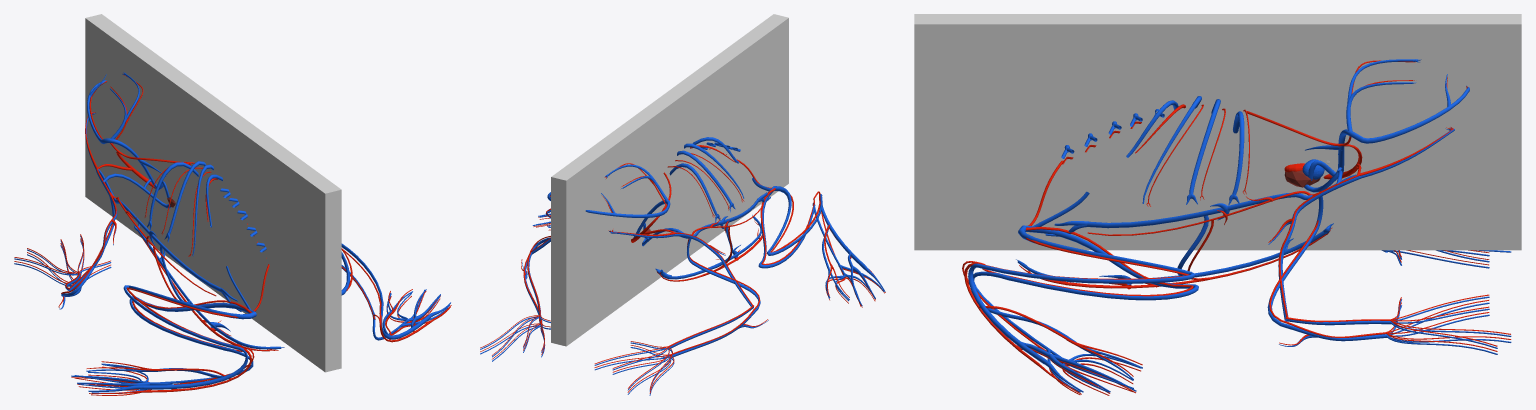
Rendered from krovsys.fbx.
3 renders of one model, left to right at view 1: azimuth 30°, elevation 25°; view 2: azimuth 150°, elevation 25°; view 3: azimuth 270°, elevation 25°, orthographic. The views are drawn at different scales.
Parts seen in each view (by area): view 1: Cube, КриваяБезье.044, КриваяБезье.085; view 2: Cube, КриваяБезье.044, КриваяБезье.085; view 3: Cube, КриваяБезье.044, КриваяБезье.085.
Part boxes in pixels (x1,y1,x2,y2): Cube: [85, 14, 341, 372]; КриваяБезье.044: [14, 72, 450, 393]; КриваяБезье.085: [14, 76, 451, 395]; Cube: [551, 14, 788, 346]; КриваяБезье.044: [480, 137, 885, 395]; КриваяБезье.085: [480, 145, 885, 393]; Cube: [914, 14, 1521, 250]; КриваяБезье.044: [968, 59, 1511, 392]; КриваяБезье.085: [962, 60, 1511, 395].
Size of the model in its own units: 5470 by 3153 by 6249.
